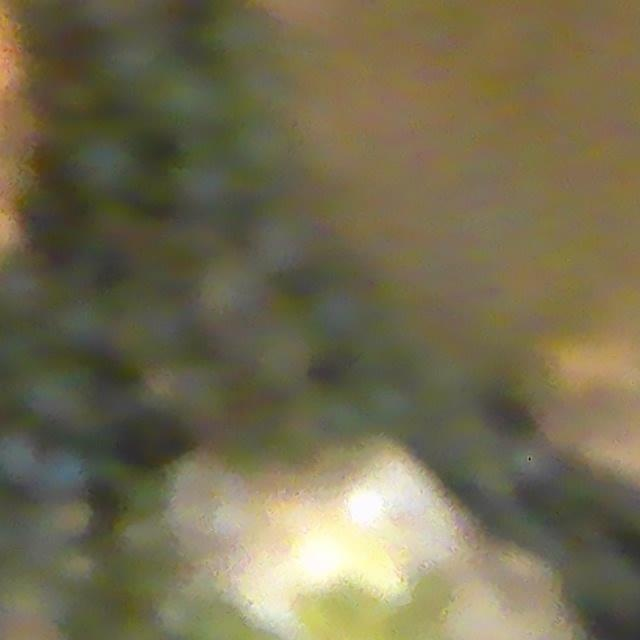SeaGrape: (18, 353, 103, 438), (63, 118, 145, 203), (188, 600, 246, 640)
